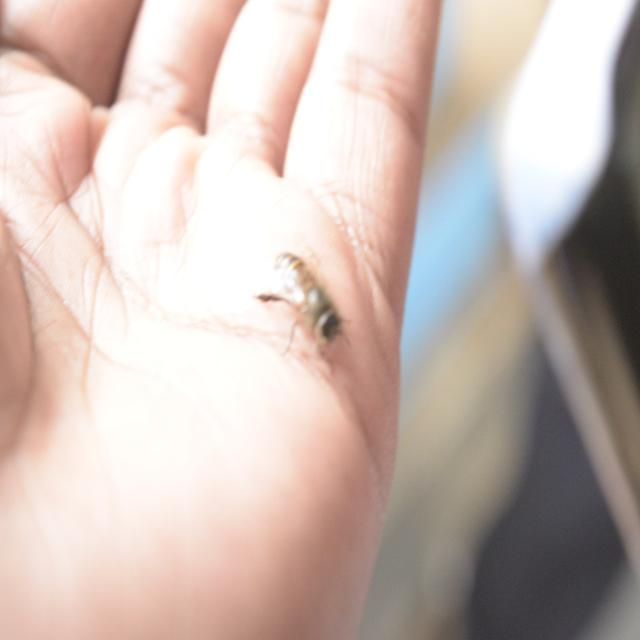honeybee: (262, 252, 352, 369)
